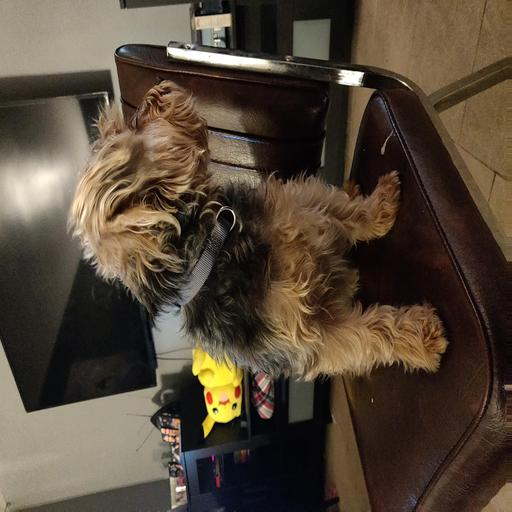dog: (67, 72, 373, 378)
